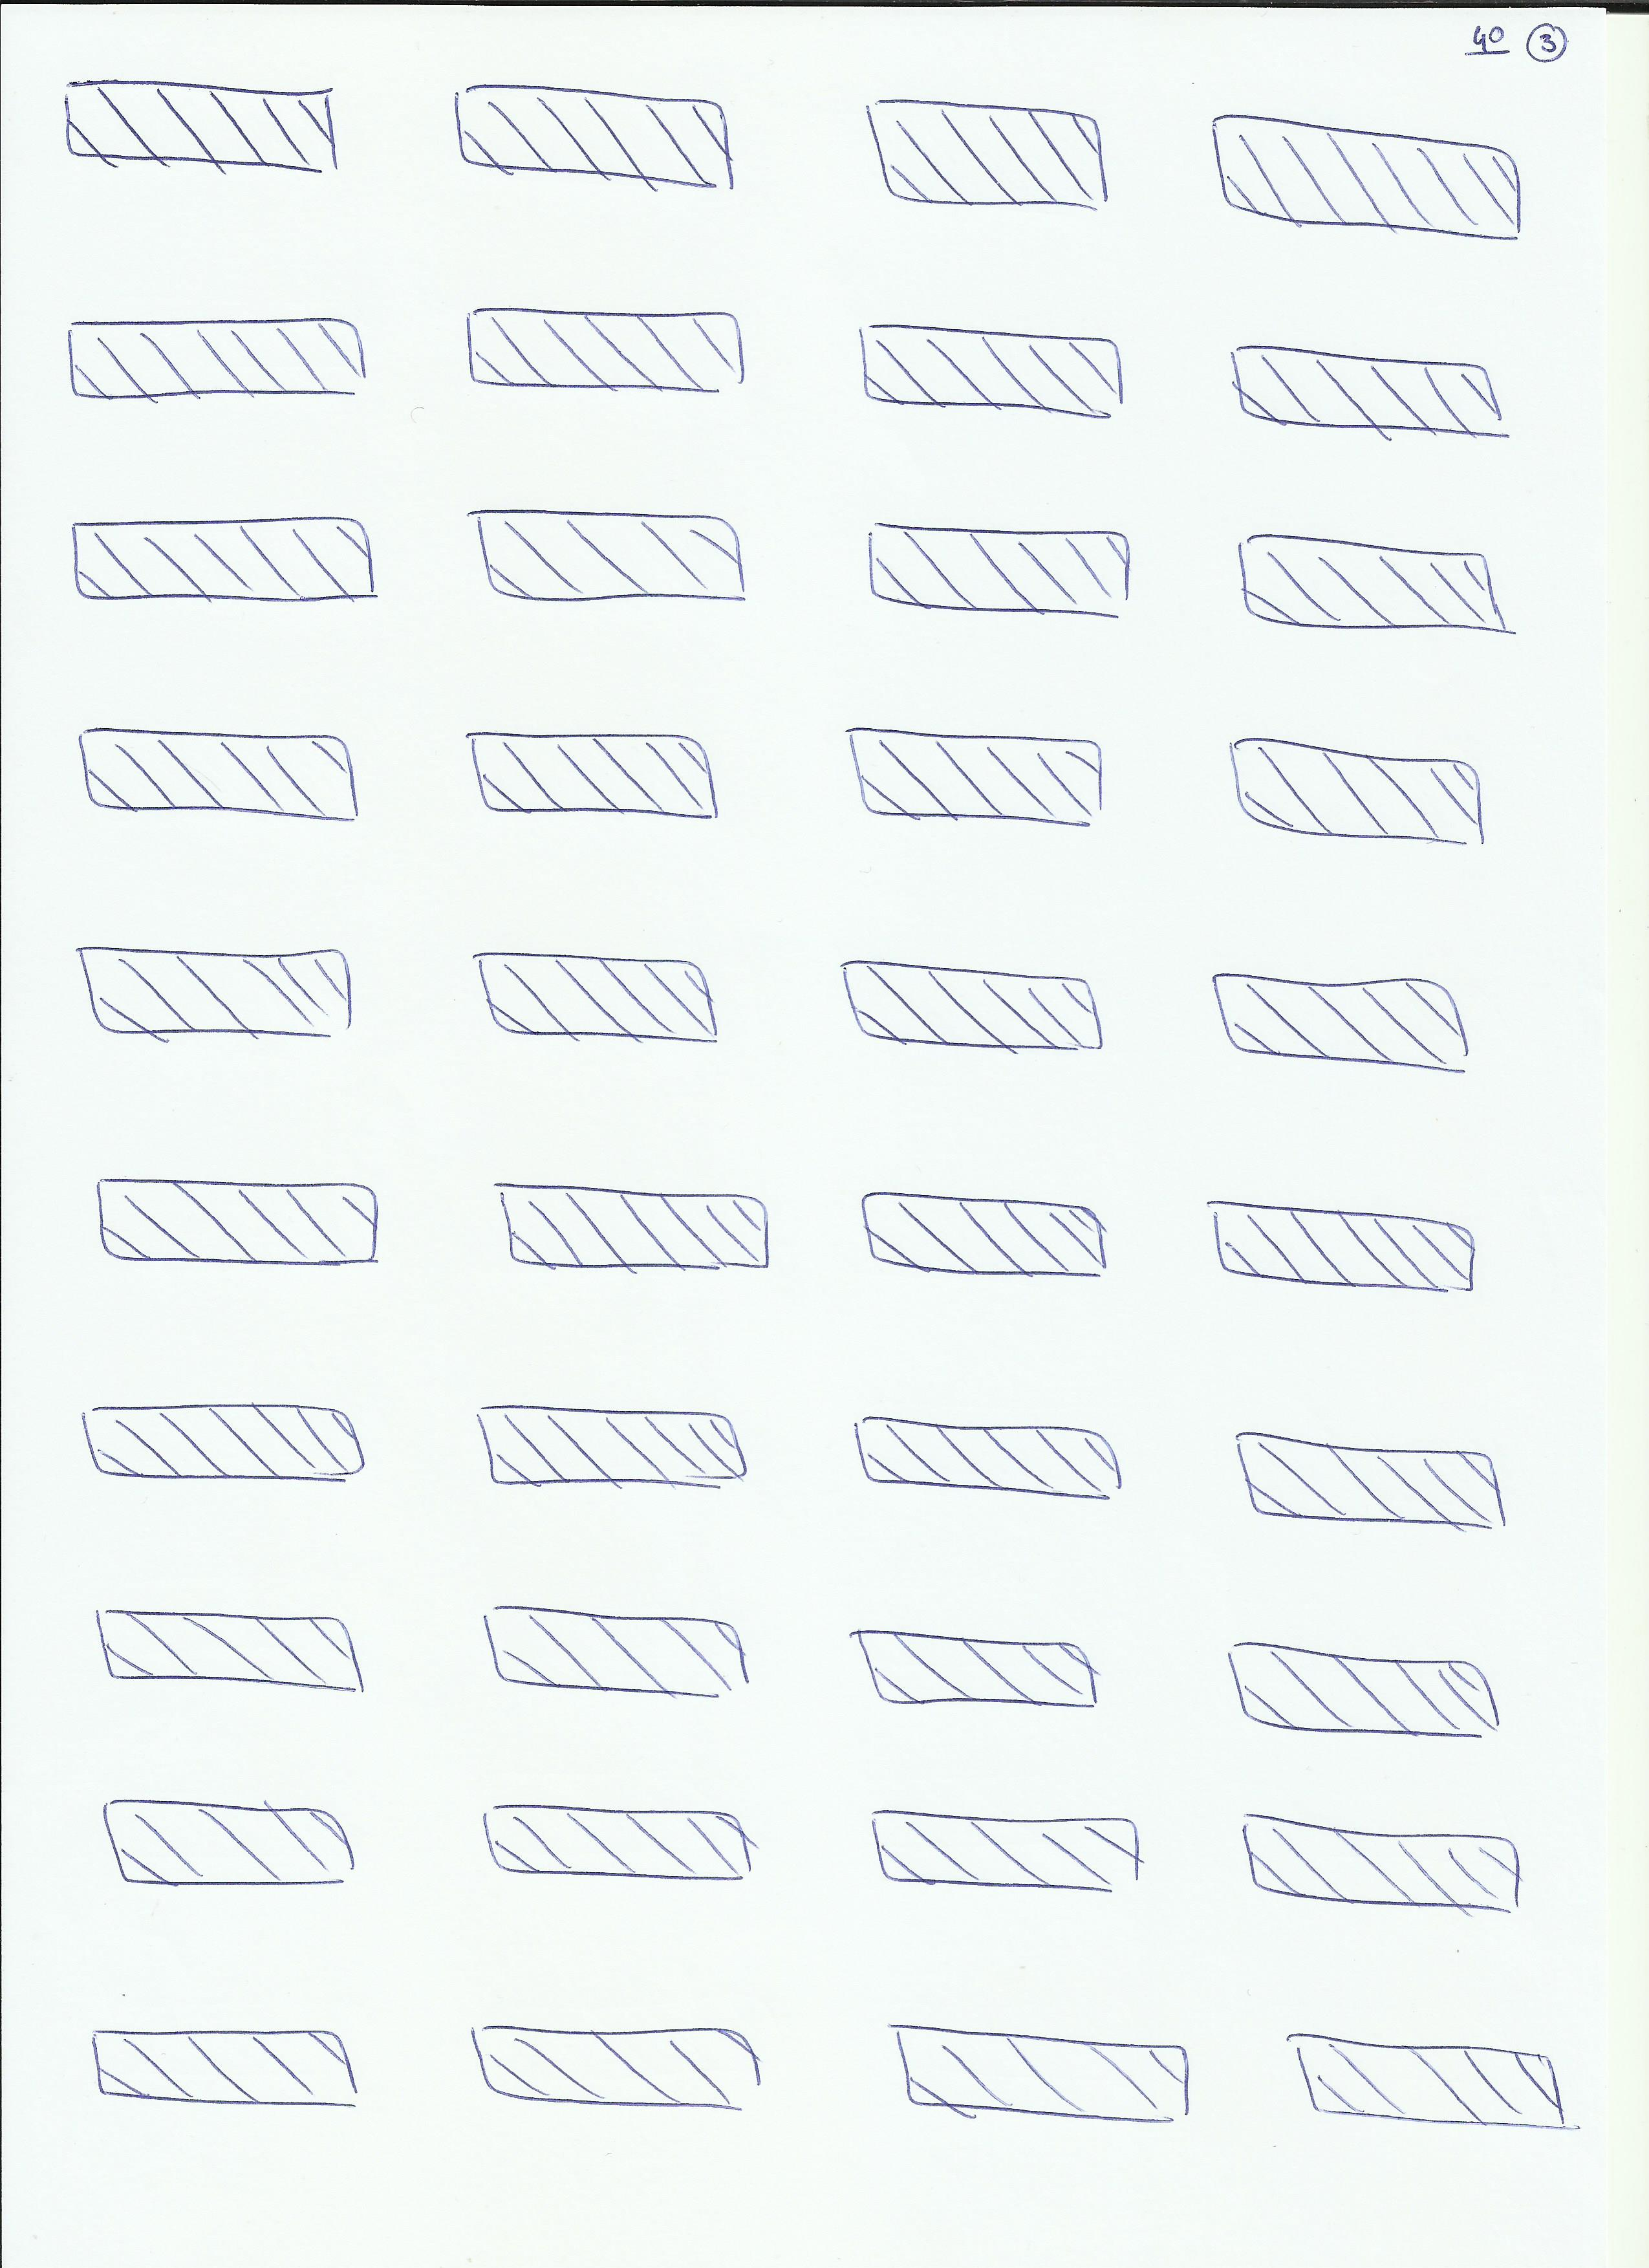frame: (1200, 106, 1529, 250), (452, 77, 743, 199), (887, 2018, 1200, 2125), (466, 498, 757, 613), (77, 713, 363, 828), (1225, 734, 1498, 850), (70, 505, 384, 606), (1225, 336, 1515, 444), (86, 1166, 384, 1270), (832, 947, 1110, 1058), (484, 1169, 773, 1275), (1285, 2025, 1566, 2132), (77, 942, 363, 1048), (459, 299, 753, 401), (1228, 530, 1505, 637), (1232, 1425, 1508, 1532), (463, 2014, 769, 2111), (1242, 1808, 1526, 1912), (859, 319, 1132, 426), (1221, 1638, 1501, 1741), (49, 74, 348, 171), (1207, 965, 1477, 1072), (1207, 1194, 1484, 1298), (859, 516, 1142, 616), (480, 1601, 753, 1705), (869, 95, 1112, 210), (845, 724, 1110, 828), (470, 1396, 753, 1493), (845, 1410, 1128, 1507), (463, 717, 718, 824), (63, 313, 373, 401), (97, 1787, 359, 1891), (466, 942, 718, 1048), (866, 1801, 1149, 1895), (854, 1183, 1110, 1284), (845, 1622, 1110, 1719), (473, 1798, 753, 1888), (97, 1608, 373, 1697), (90, 2021, 363, 2111), (83, 1403, 373, 1486)
